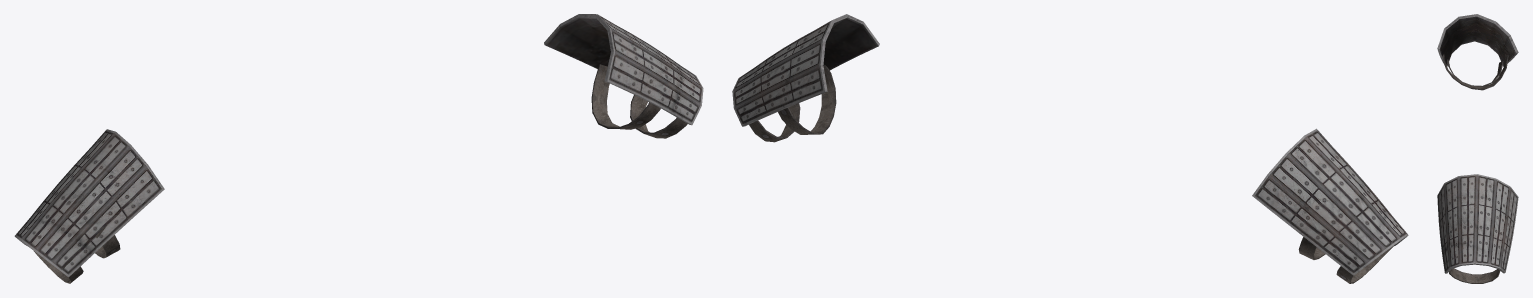
Rendered from sk_dwarf_iron_bracer_light_b1.fbx.
The picture shows the model from 3 angles, left to right: view 1: azimuth 30°, elevation 25°; view 2: azimuth 150°, elevation 25°; view 3: azimuth 270°, elevation 25°; orthographic projection. The views are drawn at different scales.
Visible parts, largest first — view 1: sk_dwarf_iron_bracer_light_b1; view 2: sk_dwarf_iron_bracer_light_b1; view 3: sk_dwarf_iron_bracer_light_b1.
Part boxes in pixels (x1,y1,x2,y2): sk_dwarf_iron_bracer_light_b1: (14, 14, 703, 283); sk_dwarf_iron_bracer_light_b1: (732, 14, 1408, 283); sk_dwarf_iron_bracer_light_b1: (1437, 14, 1518, 283).
Size of the model in its own units: 1.18 by 0.1805 by 0.2249.
1 material, 1 textured.
